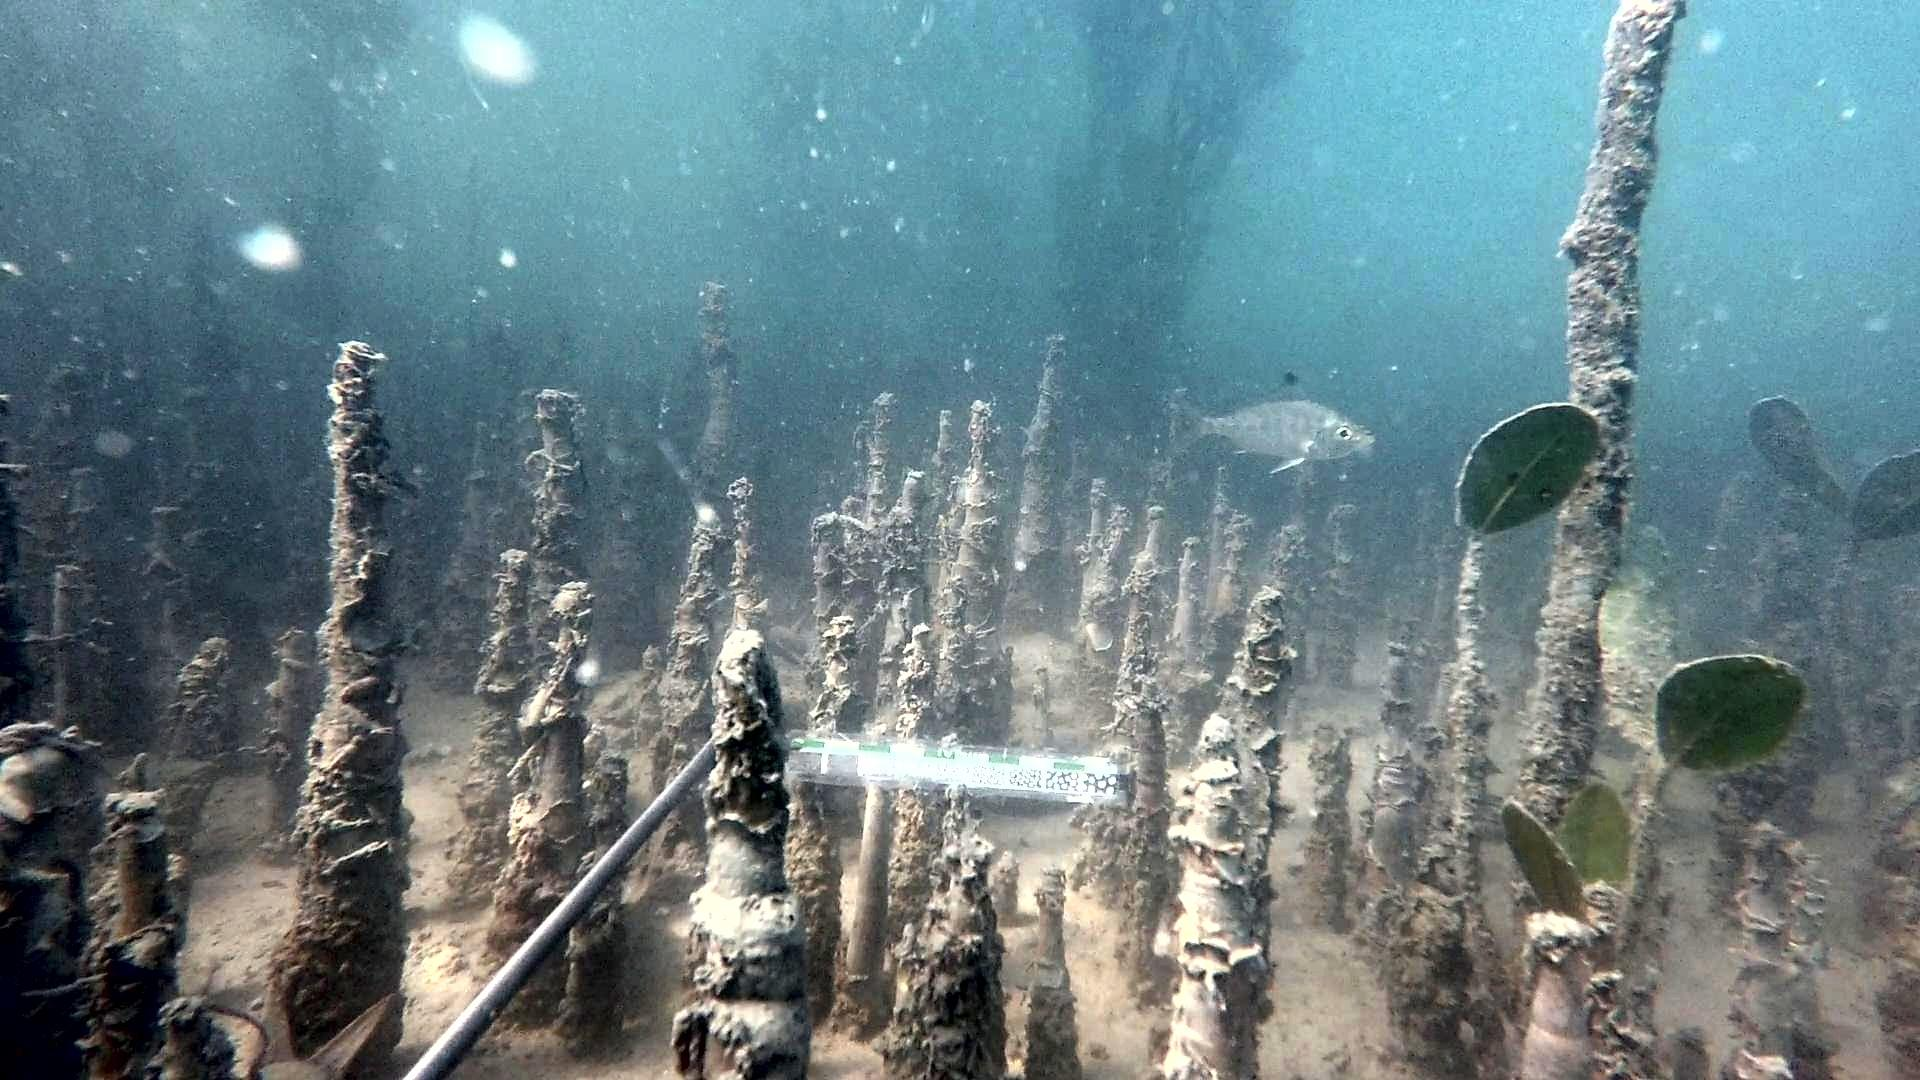gerres: (1161, 370, 1378, 476)
